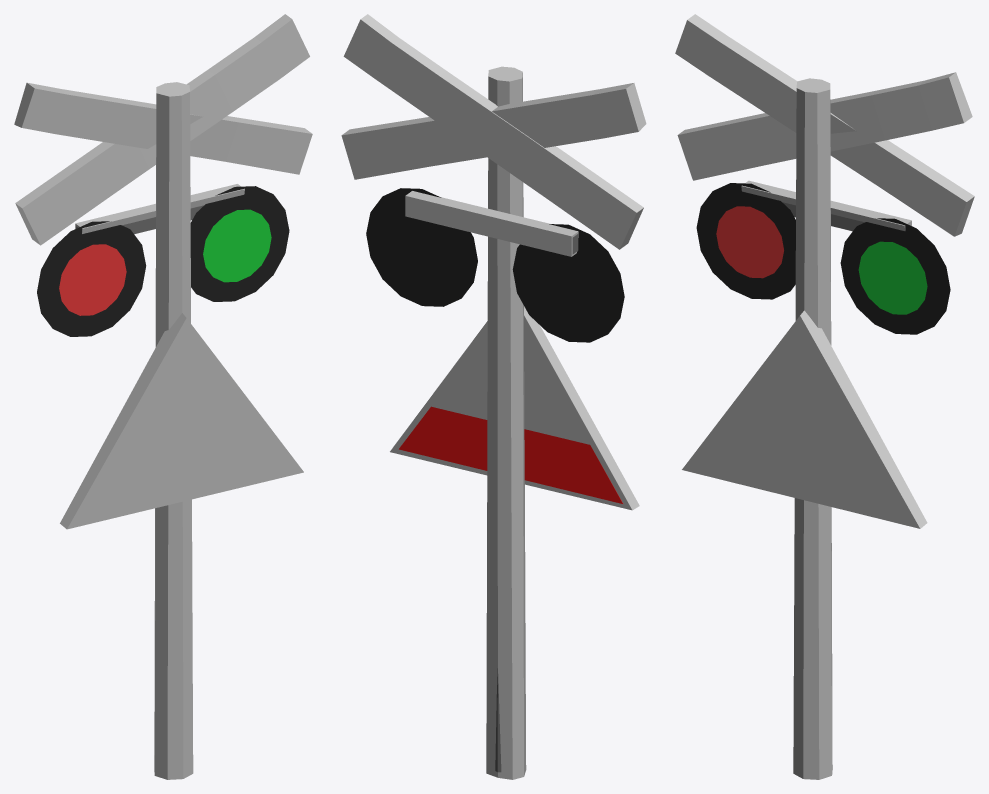
Rendered from TrafficLight.fbx.
3 views of the same model, side by side, from view 1: azimuth 30°, elevation 25°; view 2: azimuth 150°, elevation 25°; view 3: azimuth 330°, elevation 25° (orthographic). The views are drawn at different scales.
Parts seen in each view (by area): view 1: out, Model, Green, Red; view 2: out, Model; view 3: out, Model, Green, Red.
Part boxes in pixels (x1,y1,x2,y2): out: (14,14,312,779); Model: (37,186,289,336); Green: (203,209,271,282); Red: (59,244,126,315); out: (341,14,646,779); Model: (366,188,624,772); out: (675,14,974,779); Model: (696,183,950,334); Green: (858,241,927,314); Red: (716,206,783,278).
Size of the model in its own units: 106 by 249 by 19.04.
